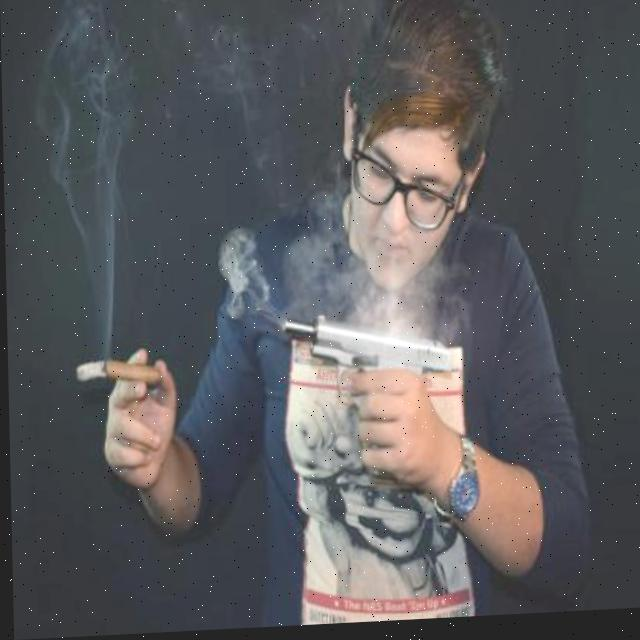cigarette: (74, 359, 161, 386)
